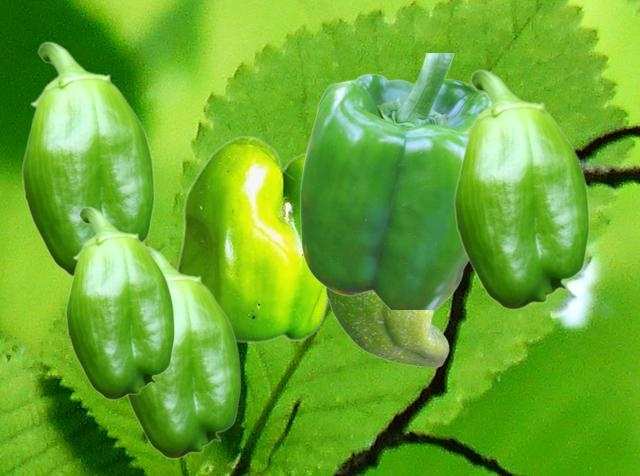bell_pepper: (299, 53, 489, 308), (453, 69, 589, 309), (175, 135, 329, 342), (21, 41, 154, 277), (127, 246, 240, 458), (65, 206, 174, 399), (325, 288, 448, 366)
